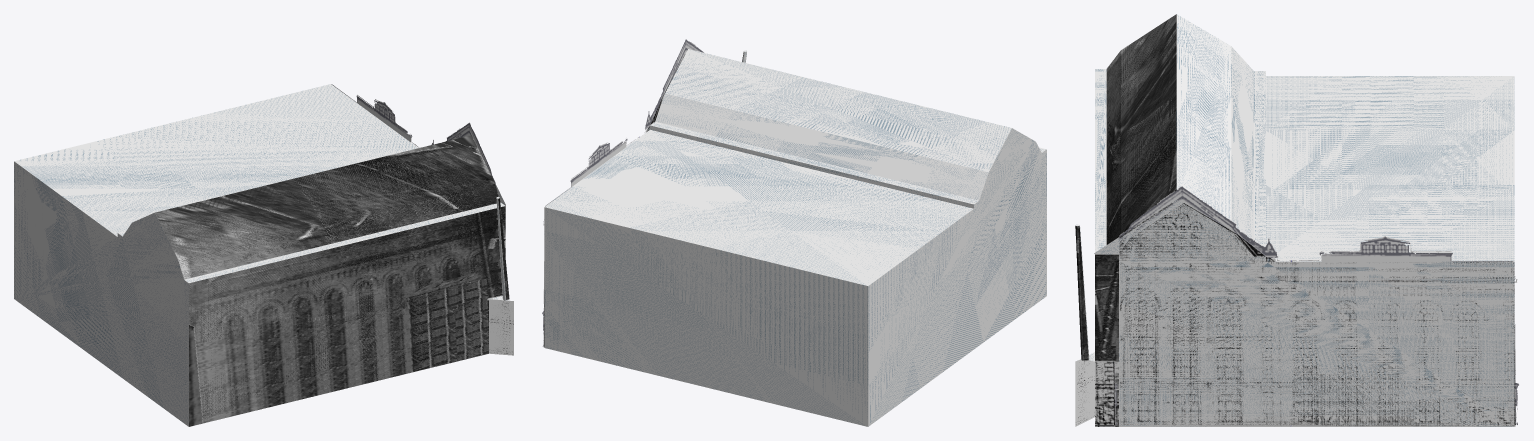
The model's file is Brooklyn_Rapid_Transit_Building_2.fbx.
3 views of the same model, side by side, from view 1: azimuth 30°, elevation 25°; view 2: azimuth 150°, elevation 25°; view 3: azimuth 270°, elevation 25° (orthographic). The views are drawn at different scales.
Parts seen in each view (by area): view 1: Model; view 2: Model; view 3: Model.
Boxes of the visible parts, x1=… form: Model: x1=14, y1=84, x2=513, y2=426; Model: x1=542, y1=39, x2=1046, y2=426; Model: x1=1075, y1=14, x2=1518, y2=426.
Size of the model in its own units: 264 by 164 by 267.
